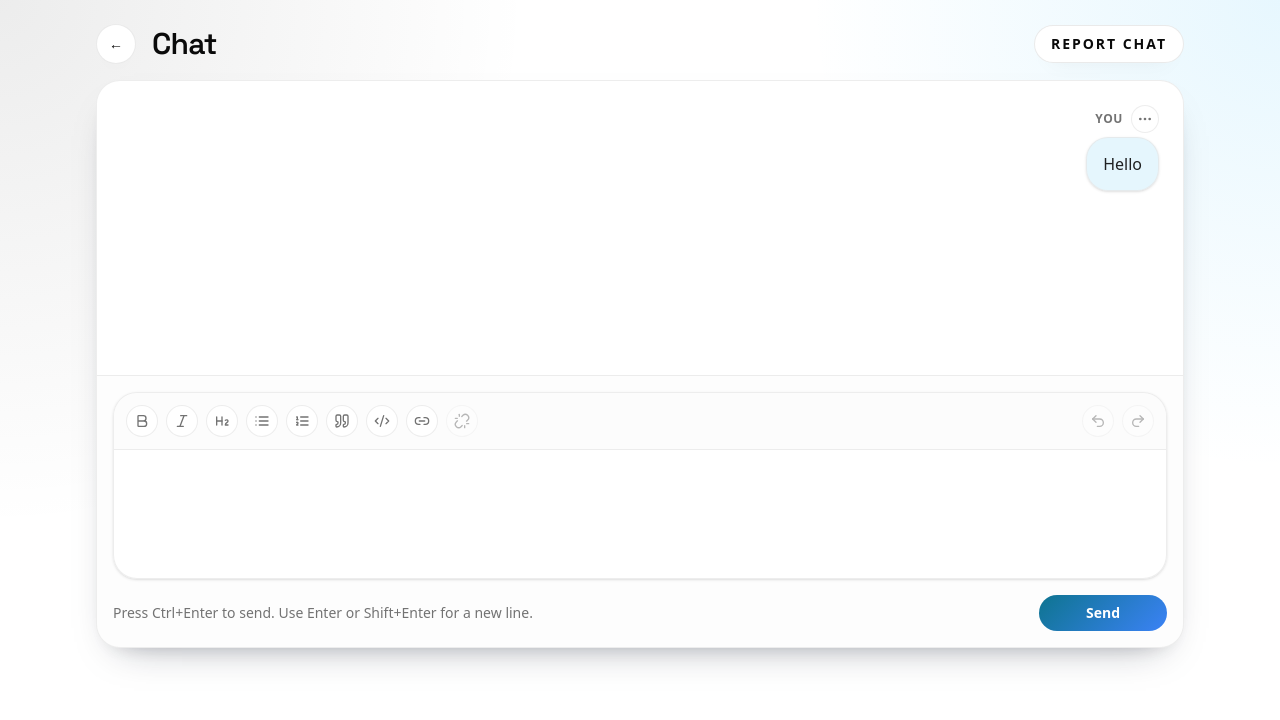
Test: ChatClient › keeps destructive actions hidden until the message menu is opened
Expected: the button "Delete message" is not shown
Click the button named "Open message actions". click: (1145, 119)
box: left=1131, top=105, right=1159, bottom=133
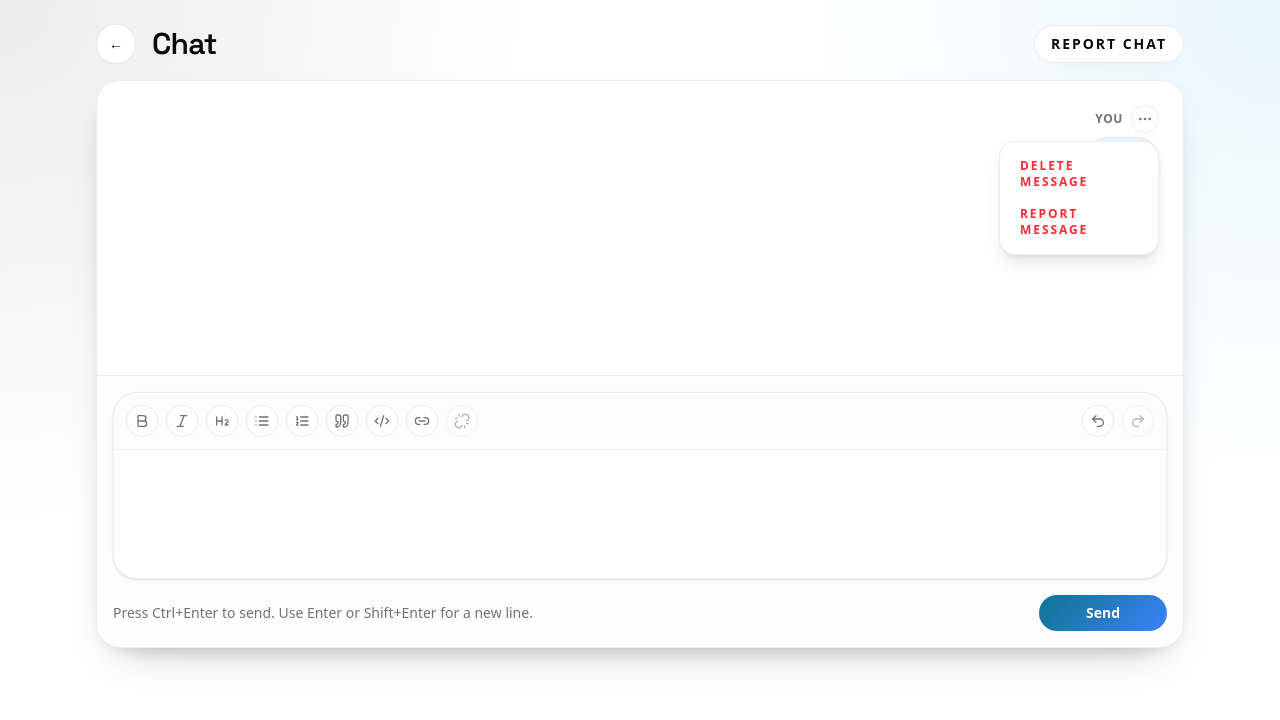
Expected: the button "Delete message" is shown, left=1008, top=150, right=1150, bottom=198
